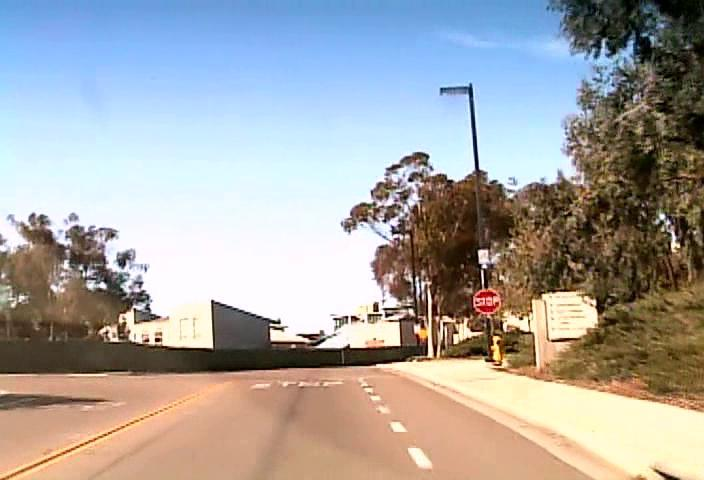stop: (472, 288, 500, 314)
